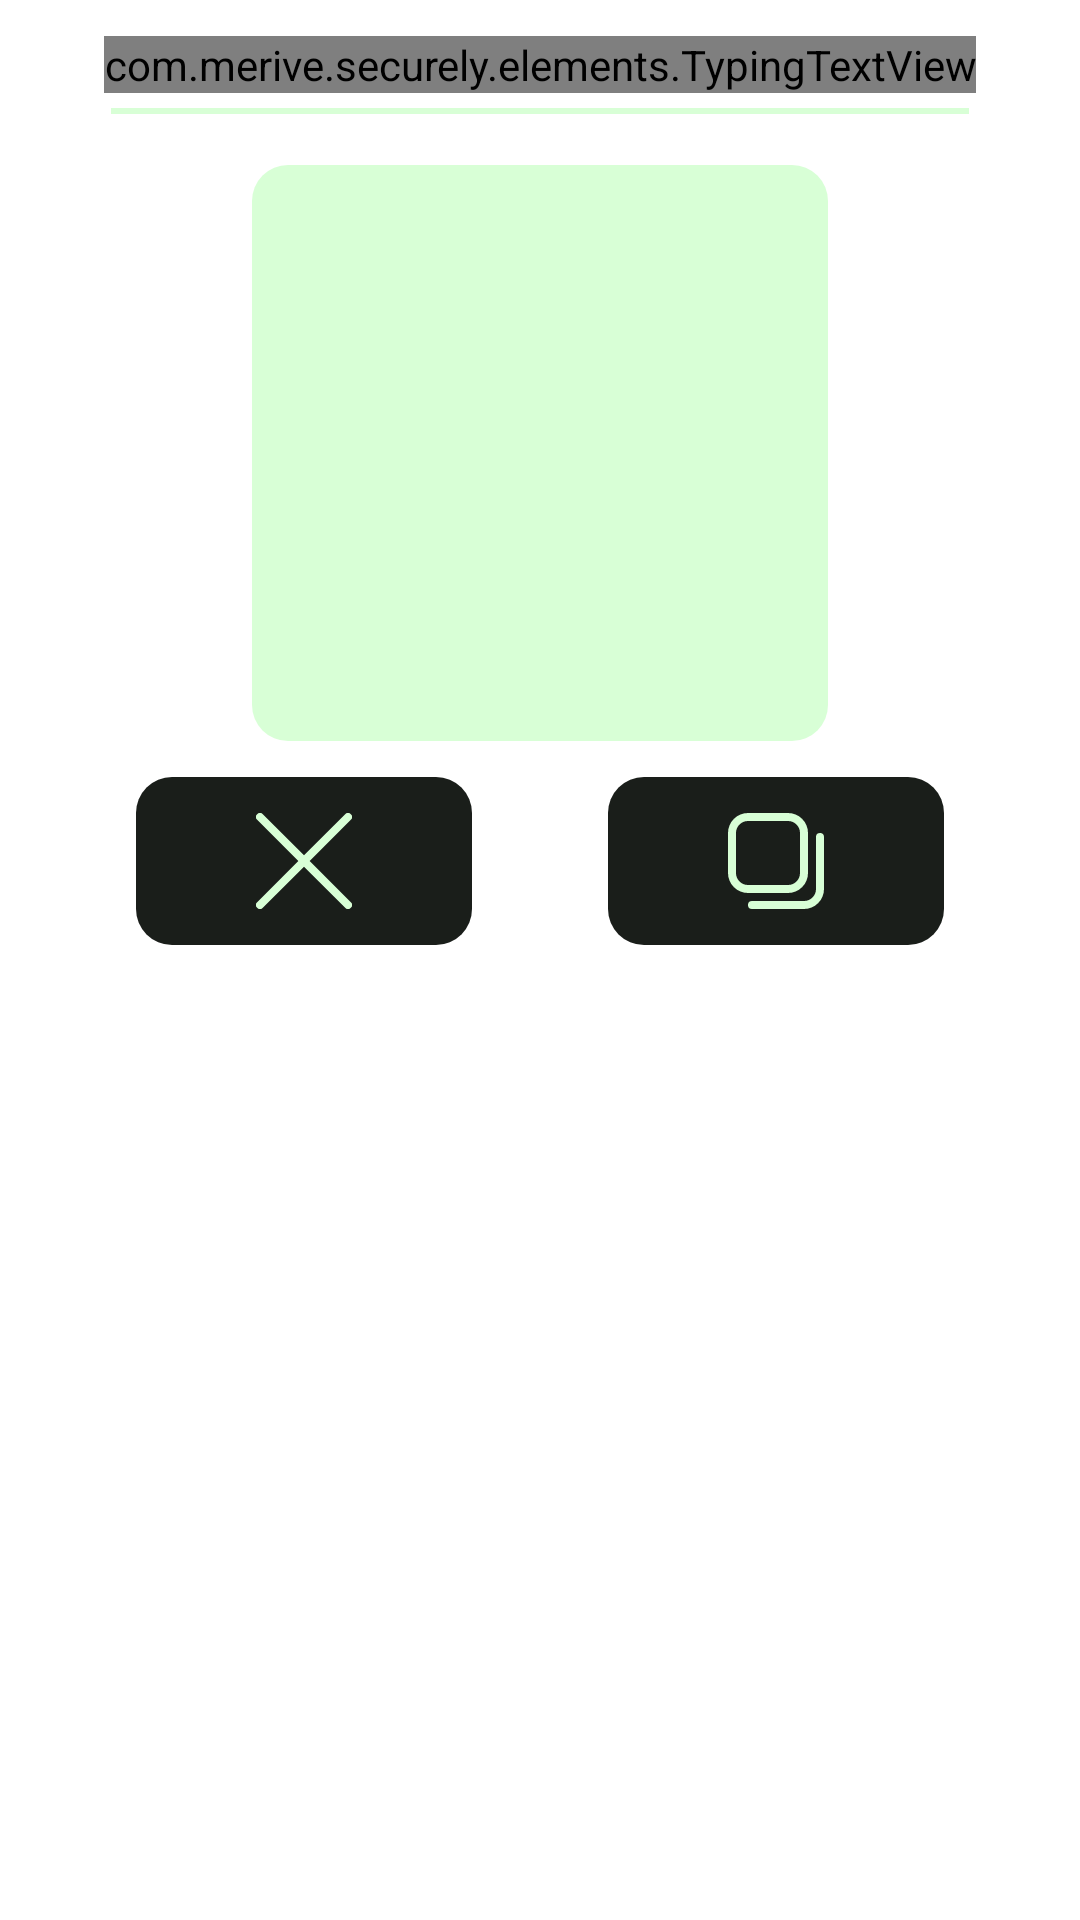

Named icons in this screenshot (1080w x 1920h) and their bounding boxes, (left=x1, top=y1, right=x2, bottom=y2):
cancel: (left=136, top=777, right=472, bottom=945)
